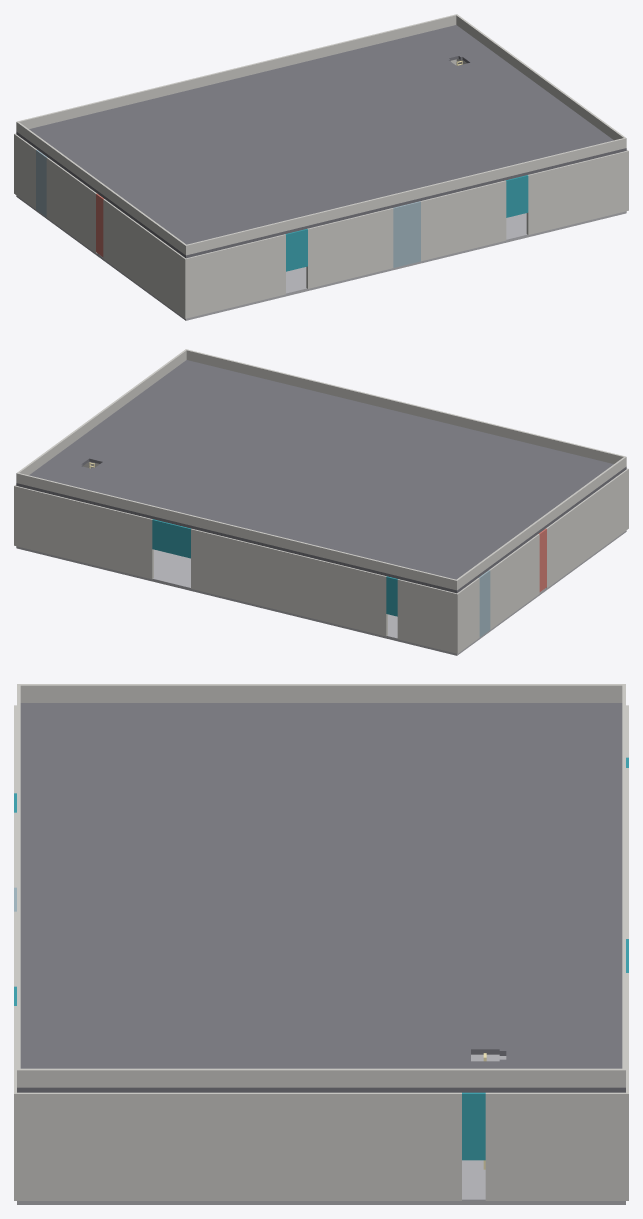
File: market_hall_a01.glb
3 views of the same model, one above another, from view 1: azimuth 30°, elevation 25°; view 2: azimuth 150°, elevation 25°; view 3: azimuth 270°, elevation 25° (orthographic). The views are drawn at different scales.
Parts seen in each view (by area): view 1: ext_0_S_seg2, ext_0_S_seg6, ext_0_S_seg16, ext_0_S_seg0, ext_0_S_seg12, ext_0_S_seg14, ext_0_S_seg18, ext_0_S_seg8, ext_0_S_seg20, ext_0_S_seg1, ext_0_S_seg3, ext_0_S_seg4 (+118 smaller); view 2: ext_0_N_seg2, ext_0_N_open1_lintel, ext_0_N_seg15, ext_0_N_seg4, ext_0_N_seg7, ext_0_N_seg0, ext_0_N_seg5, ext_0_N_seg9, ext_0_N_seg12, ext_0_N_seg16, ext_0_N_seg19, ext_0_N_seg21 (+117 smaller); view 3: ext_0_E_seg9, ext_0_E_seg0, ext_0_E_seg1, ext_0_E_seg5, ext_0_E_seg6, ext_0_E_seg7, ext_0_E_seg8, ext_0_E_seg10, ext_0_E_seg12, ext_0_E_seg13, ext_0_E_seg2, ext_0_E_seg3 (+90 smaller).
Boxes of the visible parts, <box> form: ext_0_S_seg2: <box>224,244,243,308</box>; ext_0_S_seg6: <box>306,224,326,288</box>; ext_0_S_seg16: <box>526,170,546,234</box>; ext_0_S_seg0: <box>187,253,206,317</box>; ext_0_S_seg12: <box>439,192,457,256</box>; ext_0_S_seg14: <box>475,183,494,247</box>; ext_0_S_seg18: <box>564,161,583,226</box>; ext_0_S_seg8: <box>344,215,362,279</box>; ext_0_S_seg20: <box>601,152,620,216</box>; ext_0_S_seg1: <box>206,249,224,313</box>; ext_0_S_seg3: <box>243,240,261,304</box>; ext_0_S_seg4: <box>261,235,279,299</box>; ext_0_N_seg2: <box>399,579,418,643</box>; ext_0_N_open1_lintel: <box>152,519,190,558</box>; ext_0_N_seg15: <box>134,515,153,579</box>; ext_0_N_seg4: <box>368,572,387,636</box>; ext_0_N_seg7: <box>312,558,331,622</box>; ext_0_N_seg0: <box>436,588,455,652</box>; ext_0_N_seg5: <box>349,567,368,631</box>; ext_0_N_seg9: <box>276,549,294,613</box>; ext_0_N_seg12: <box>221,536,239,600</box>; ext_0_N_seg16: <box>115,510,134,574</box>; ext_0_N_seg19: <box>60,497,78,561</box>; ext_0_N_seg21: <box>23,488,42,552</box>; ext_0_E_seg9: <box>362,1092,400,1200</box>; ext_0_E_seg0: <box>19,1092,57,1200</box>; ext_0_E_seg1: <box>57,1092,95,1200</box>; ext_0_E_seg5: <box>210,1092,248,1200</box>; ext_0_E_seg6: <box>248,1092,286,1200</box>; ext_0_E_seg7: <box>286,1092,324,1200</box>; ext_0_E_seg8: <box>324,1092,362,1200</box>; ext_0_E_seg10: <box>400,1092,438,1200</box>; ext_0_E_seg12: <box>485,1092,523,1200</box>; ext_0_E_seg13: <box>523,1092,561,1200</box>; ext_0_E_seg2: <box>96,1092,133,1200</box>; ext_0_E_seg3: <box>134,1092,171,1200</box>.
Size of what is drawn, in the model's own units: 48.3 by 7.8 by 32.3.
